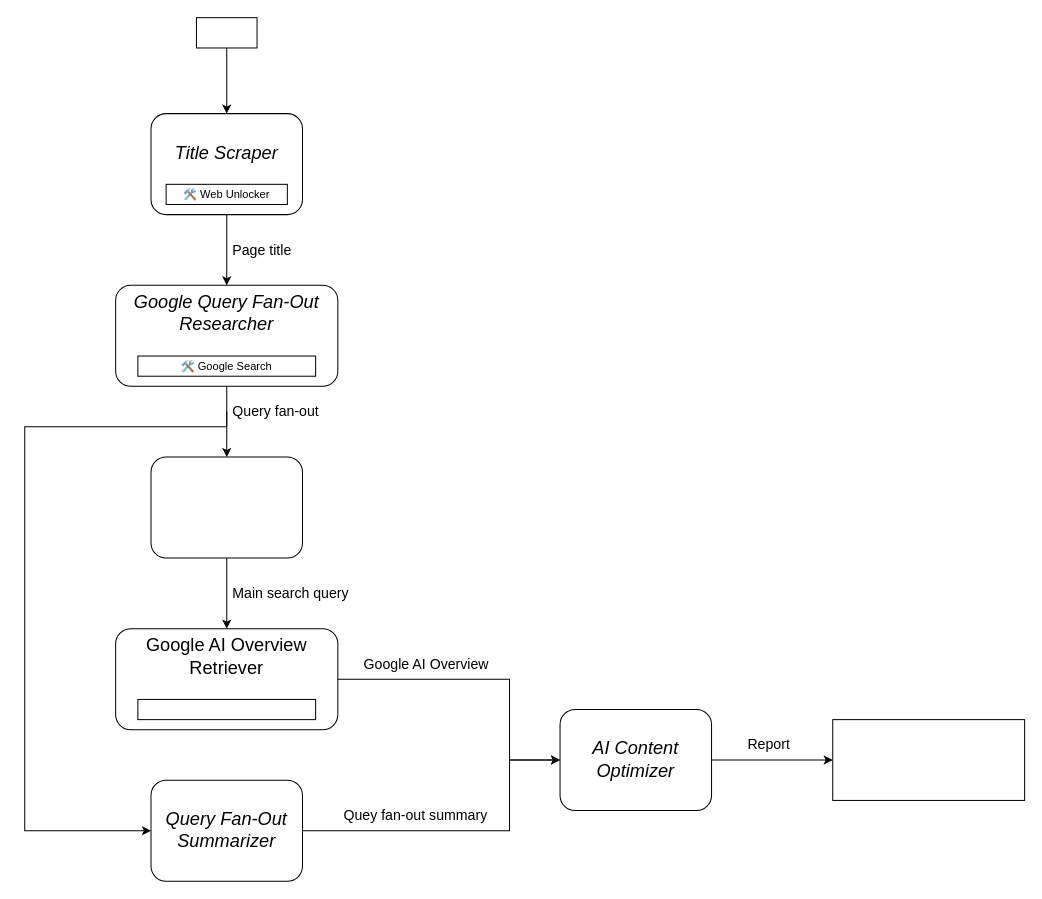
Some shapes in this 1042 by 899 pixel diagram are drawn without their labels. Here are the shapes that lost their labels. From the top down, the centre of each, then its label:
At (226,32): "URL".
At (226,507): "Google Main Query Extractor".
At (226,709): "🛠️ SERP API".
At (928,759): "Markdown GEO content optimization report".
